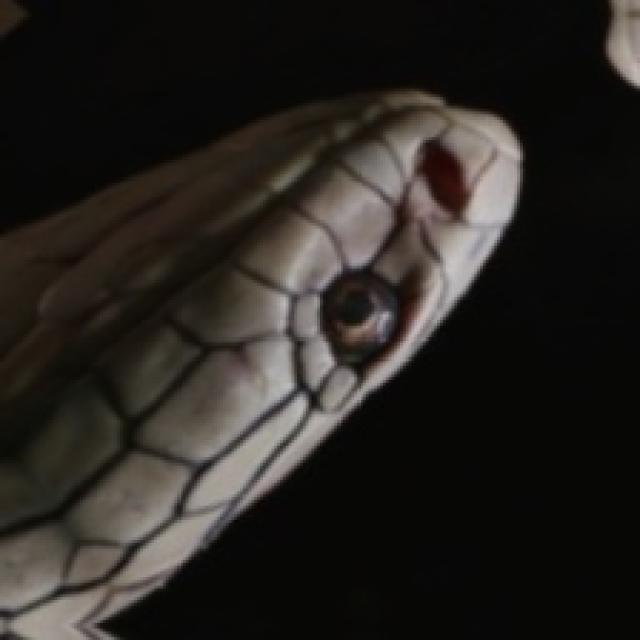king cobra: (0, 91, 520, 637)
